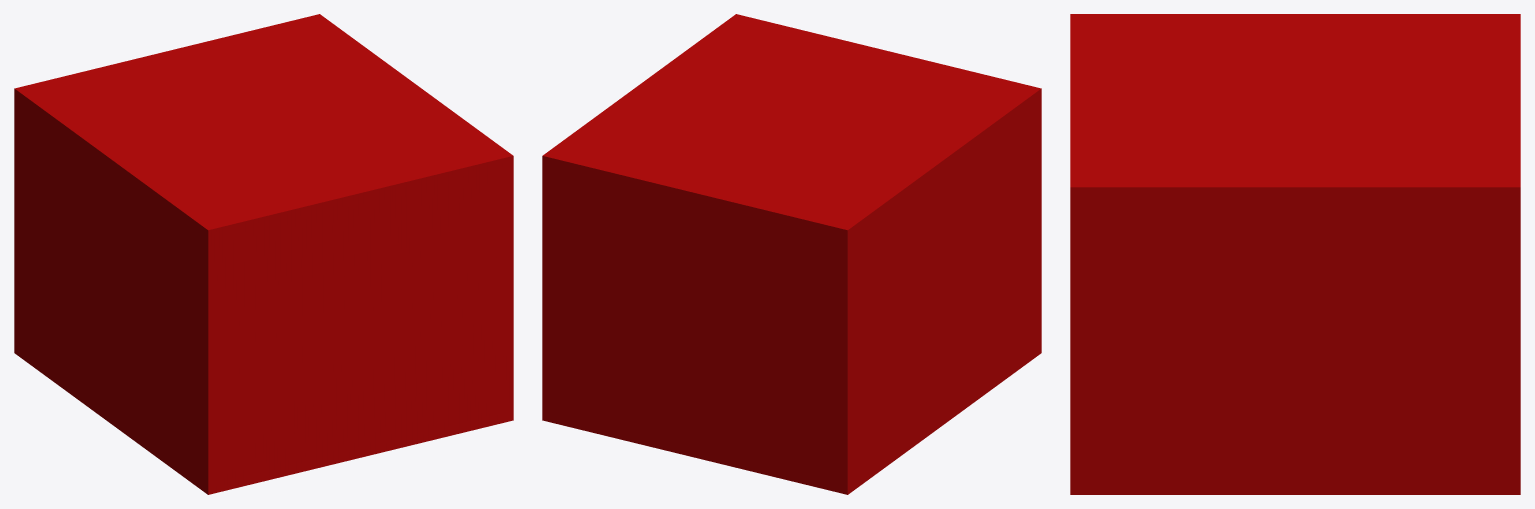
Rendered from all_rotation.gltf.
3 renders of one model, left to right at view 1: azimuth 30°, elevation 25°; view 2: azimuth 150°, elevation 25°; view 3: azimuth 270°, elevation 25°, orthographic. The views are drawn at different scales.
Parts seen in each view (by area): view 1: Box001; view 2: Box001; view 3: Box001.
Part boxes in pixels (box(x1,y1,x2,y2)): Box001: box(14, 14, 513, 494); Box001: box(542, 14, 1041, 494); Box001: box(1070, 14, 1520, 494).
Size of the model in its own units: 34.73 by 28.77 by 38.16.
